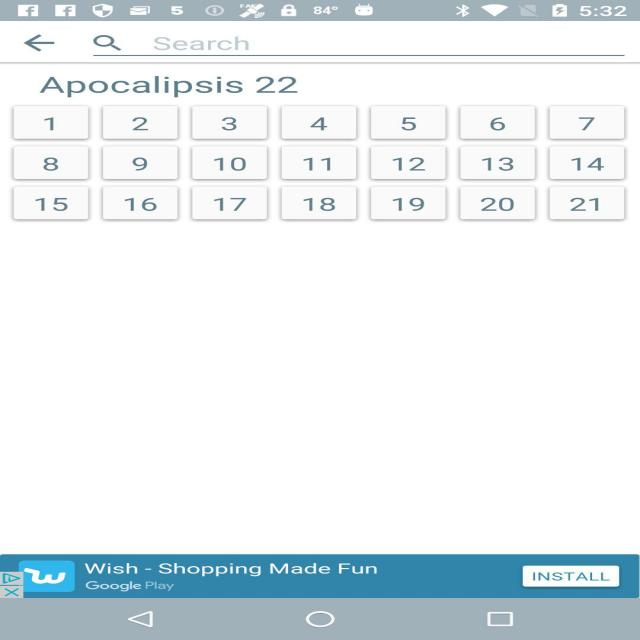button: (99, 107, 183, 140), (193, 107, 270, 141), (550, 148, 628, 180), (283, 106, 359, 138), (464, 108, 540, 140), (279, 150, 359, 180), (375, 188, 452, 219), (552, 107, 626, 139), (18, 148, 89, 181), (195, 188, 270, 219), (15, 108, 89, 139), (375, 108, 449, 139), (284, 189, 358, 219), (195, 149, 270, 178), (554, 188, 624, 219), (106, 149, 178, 179), (15, 190, 89, 219), (464, 188, 534, 218), (372, 149, 446, 177), (524, 567, 620, 588), (9, 29, 72, 60), (108, 190, 173, 218), (468, 148, 528, 177), (83, 30, 141, 56), (0, 572, 27, 601)
image: (20, 562, 74, 594)
text: (143, 32, 626, 57), (79, 561, 405, 595), (27, 72, 341, 102)
